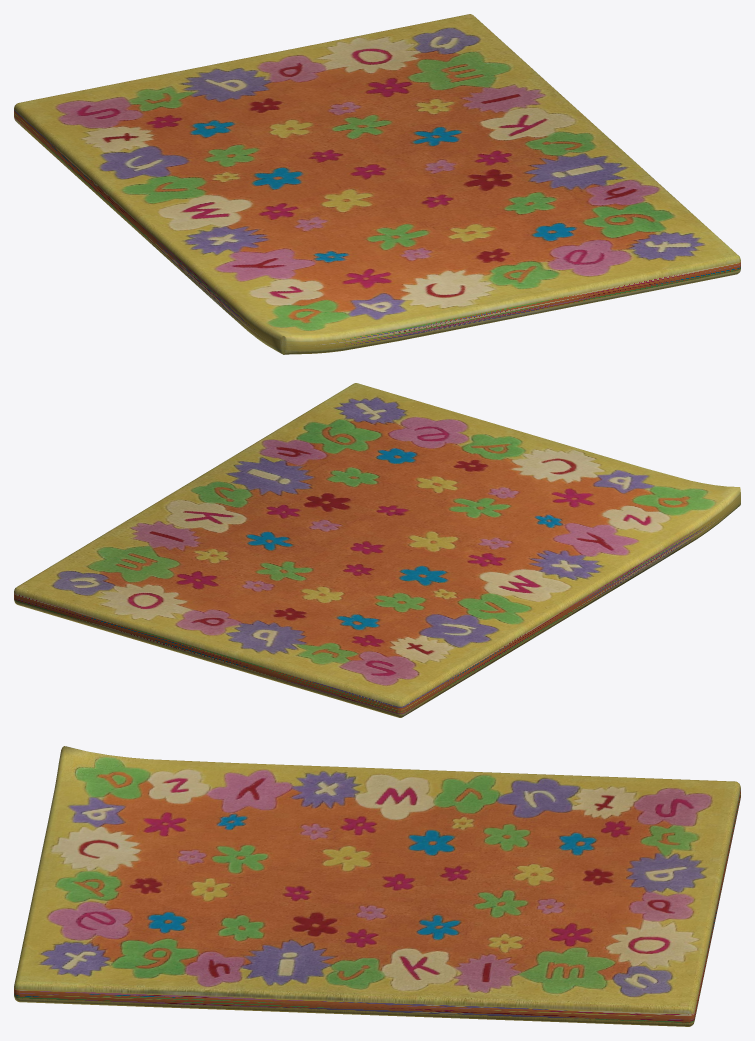
Rendered from rug.FBX.
The picture shows the model from 3 angles, top to bottom: view 1: azimuth 30°, elevation 25°; view 2: azimuth 150°, elevation 25°; view 3: azimuth 270°, elevation 25°; orthographic projection. The views are drawn at different scales.
Parts seen in each view (by area): view 1: rug; view 2: rug; view 3: rug.
Part boxes in pixels (<box>): rug: <box>14,14,740,354</box>; rug: <box>14,383,740,717</box>; rug: <box>14,746,740,1026</box>.
Bounding box in the file's own units: 4.56 × 5.53 × 0.2573.
Materials: 1 (1 with a texture image).
